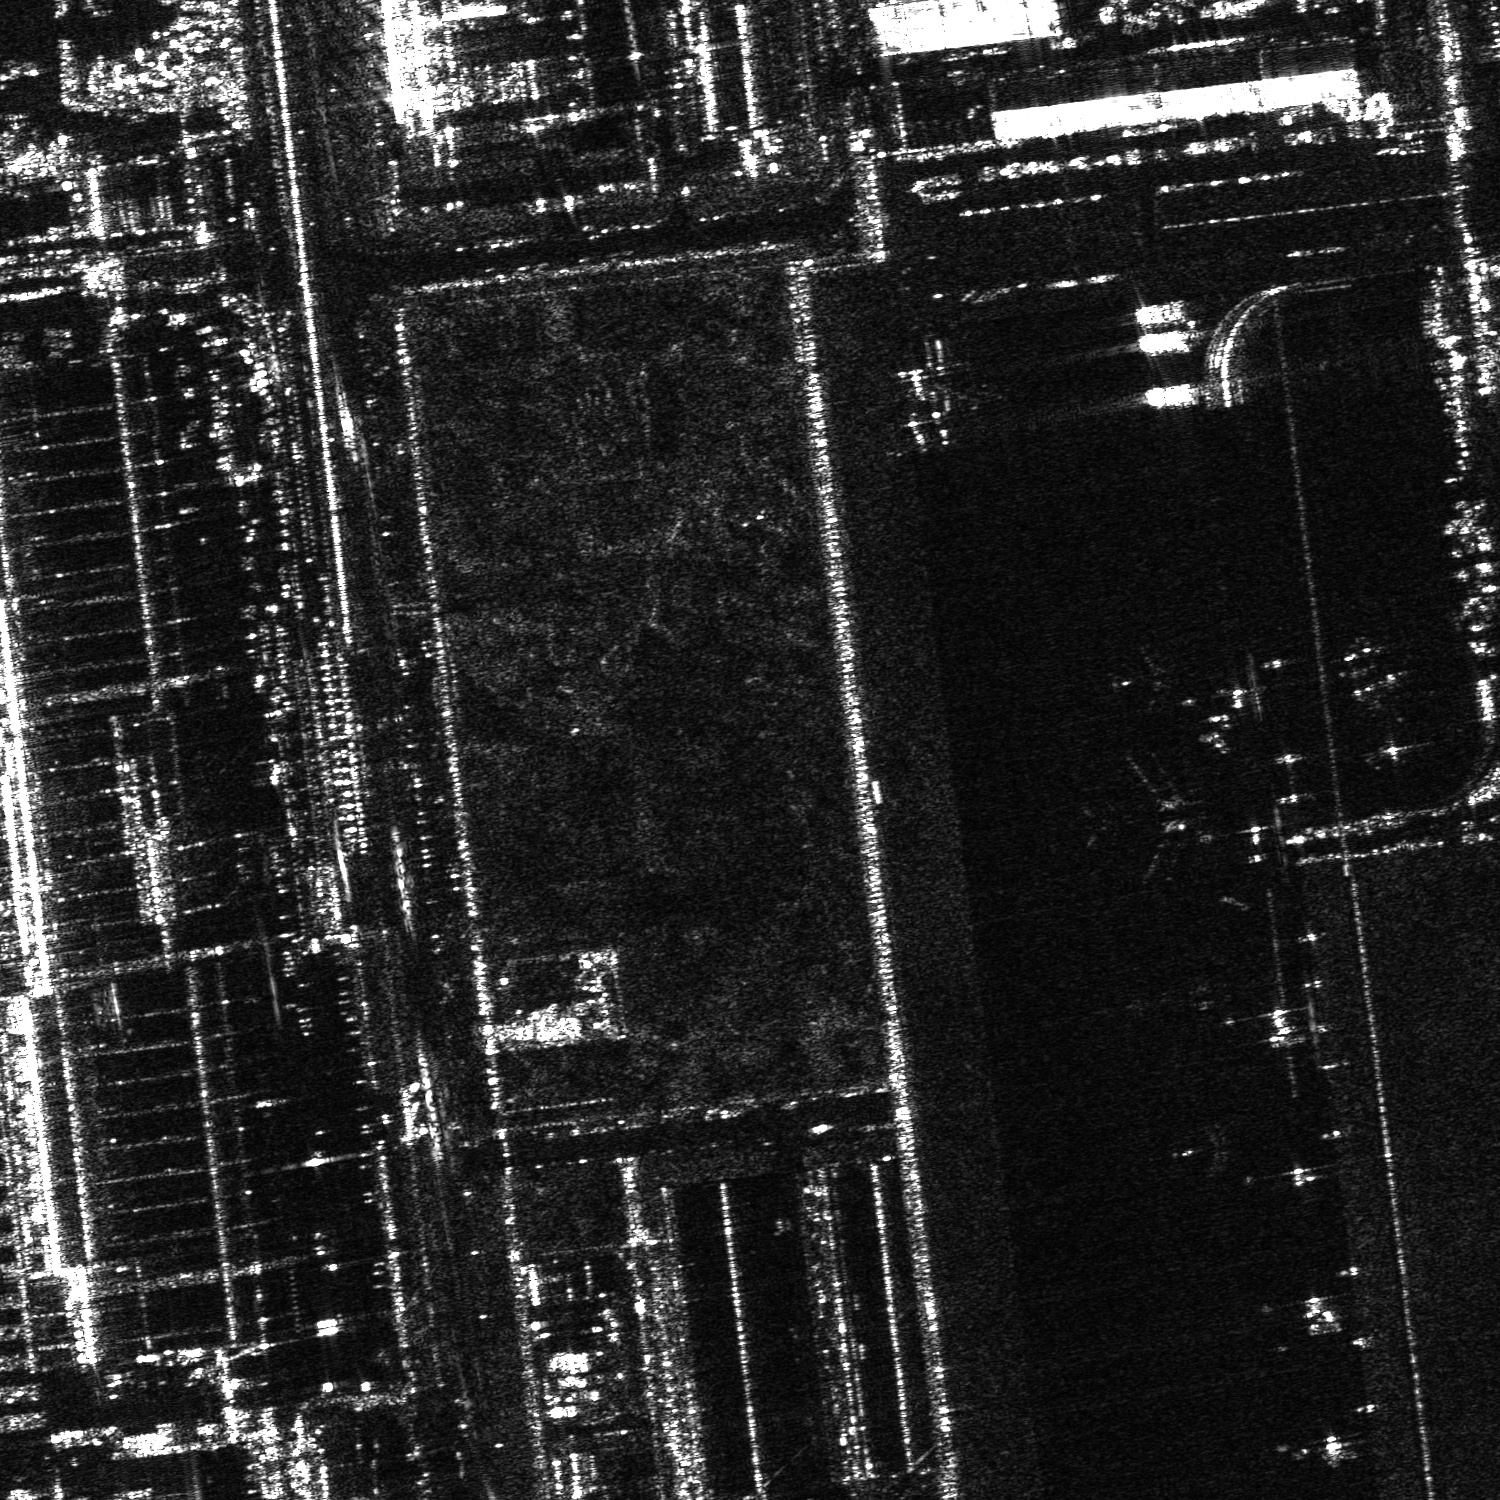Boeing787: (1078, 746, 1207, 883), (1103, 639, 1180, 712), (1169, 1113, 1245, 1181)
other: (878, 359, 970, 455)
